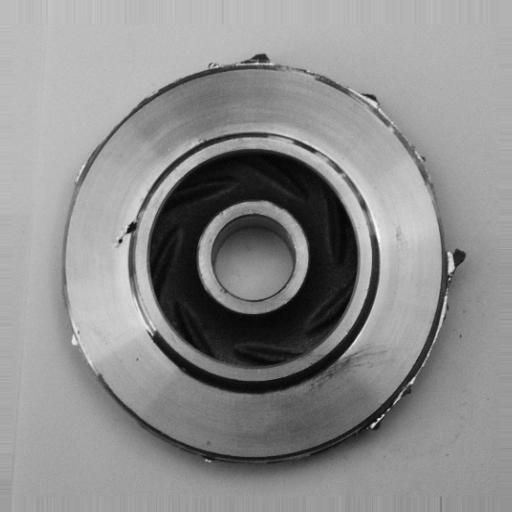casting_with_burr: (55, 49, 470, 472)
crack: (108, 212, 144, 257)
stain: (309, 346, 395, 394)
